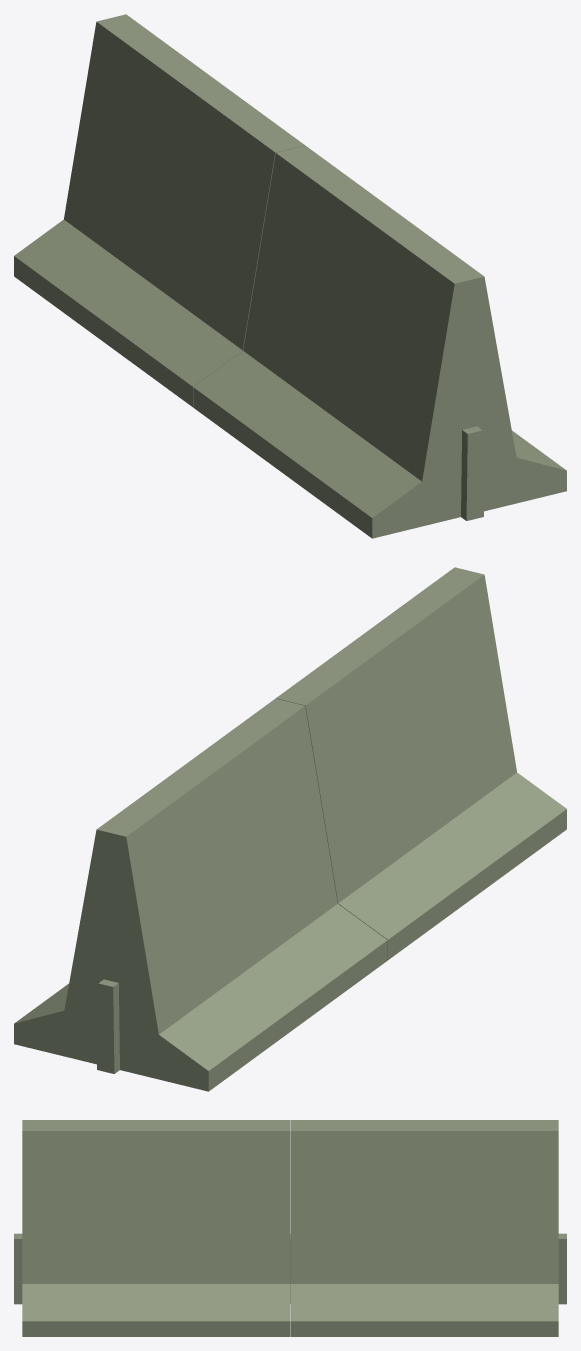
Rendered from Barrier road.fbx.
The picture shows the model from 3 angles, top to bottom: view 1: azimuth 30°, elevation 25°; view 2: azimuth 150°, elevation 25°; view 3: azimuth 270°, elevation 25°; orthographic projection. The views are drawn at different scales.
Parts seen in each view (by area): view 1: Plane; view 2: Plane; view 3: Plane.
Boxes of the visible parts, bbox=[...] form: Plane: bbox=[14, 14, 566, 538]; Plane: bbox=[14, 567, 566, 1091]; Plane: bbox=[14, 1120, 566, 1336].
Size of the model in its own units: 619 by 713 by 2034.
